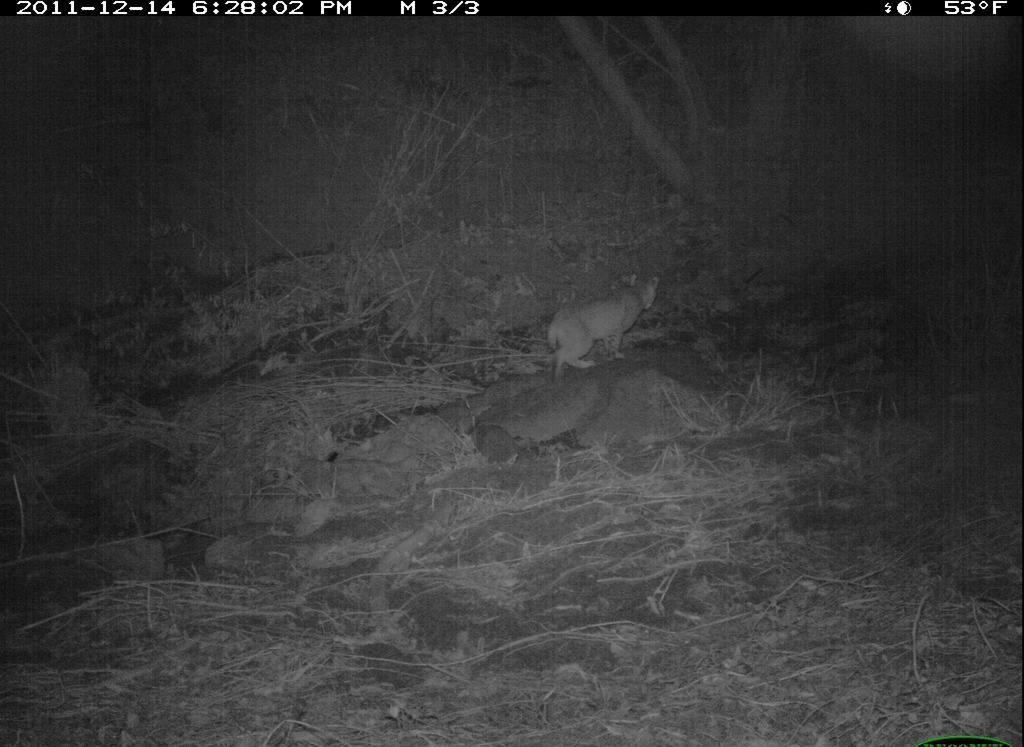bobcat: (537, 251, 675, 372)
